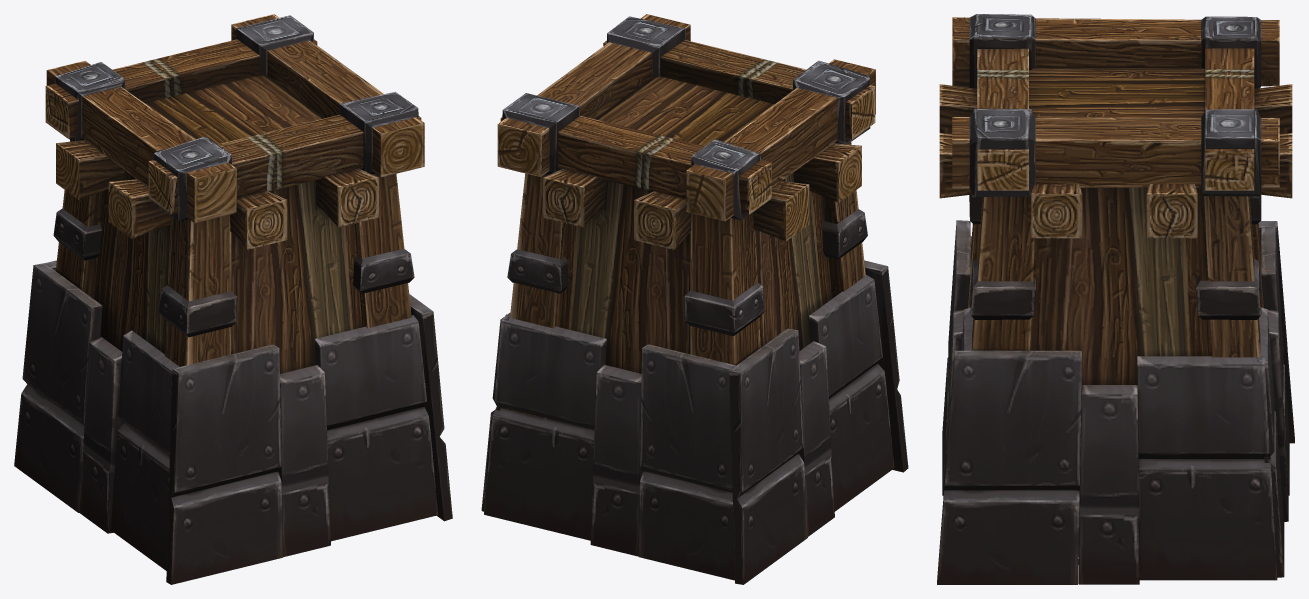
Rendered from Tower_Base1_2.fbx.
3 views of the same model, side by side, from view 1: azimuth 30°, elevation 25°; view 2: azimuth 150°, elevation 25°; view 3: azimuth 270°, elevation 25° (orthographic). The views are drawn at different scales.
Visible parts, largest first — view 1: tower2; view 2: tower2; view 3: tower2.
Part boxes in pixels (x1,y1,x2,y2): tower2: (14,14,452,584); tower2: (481,14,908,584); tower2: (937,14,1294,584).
Bounding box in the file's own units: 2.13 × 2.91 × 2.14.
